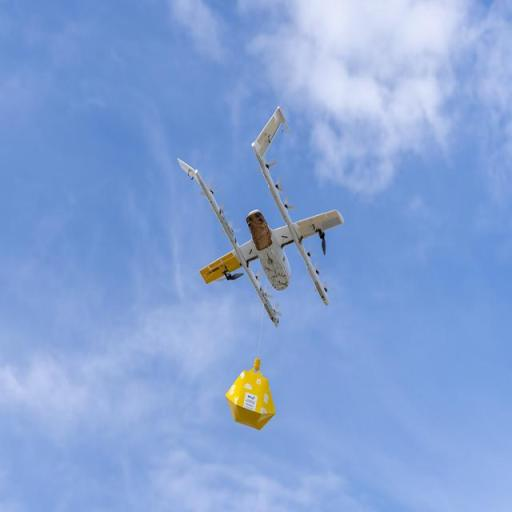uav: (168, 105, 347, 328)
